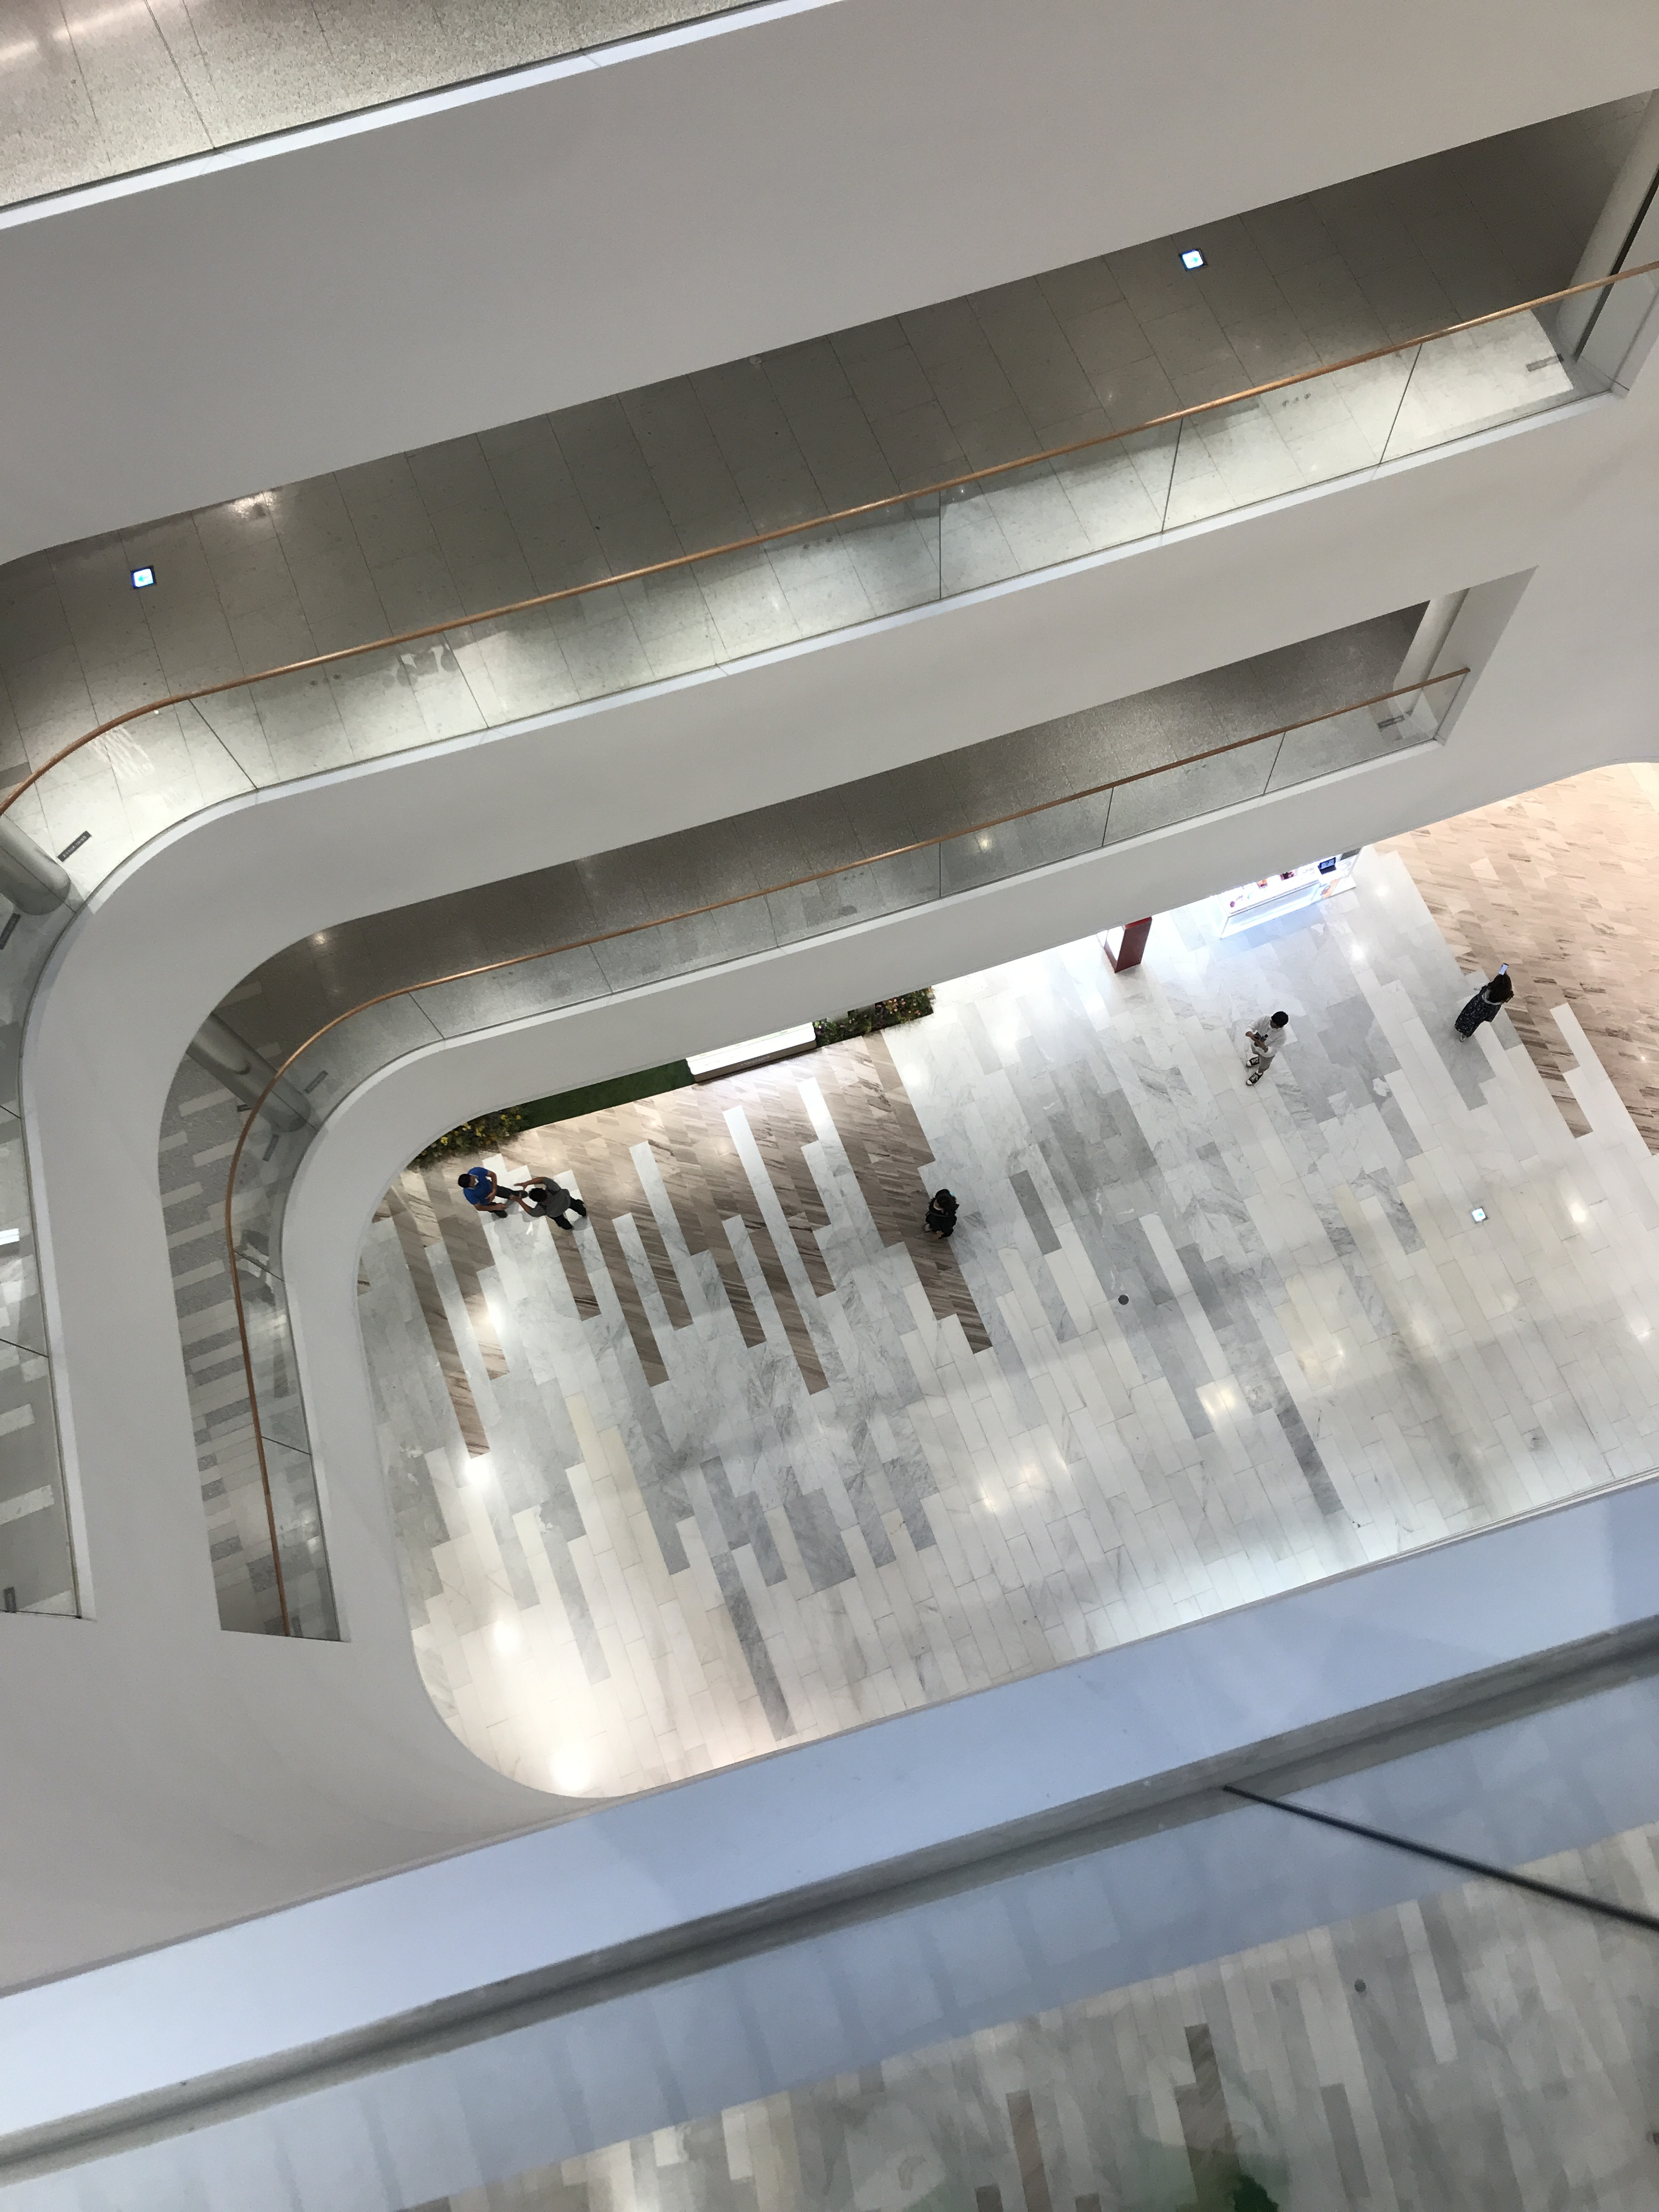person: (1454, 974, 1514, 1043), (515, 1181, 586, 1231), (457, 1167, 518, 1221), (1243, 1011, 1282, 1087), (923, 1190, 961, 1242)
